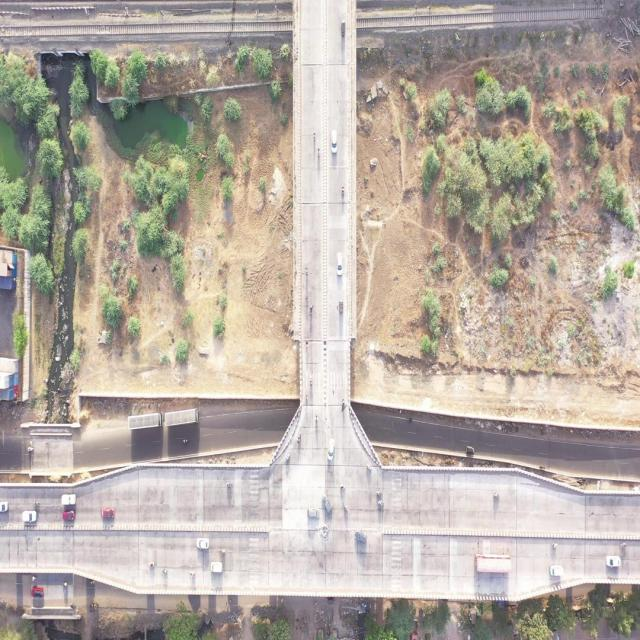3W: (466, 443, 476, 457), (89, 602, 99, 614), (338, 298, 344, 316), (326, 597, 335, 606), (341, 19, 345, 39)
Bus: (474, 551, 513, 576), (127, 412, 163, 432), (165, 408, 200, 428)
Cars: (317, 490, 336, 518), (324, 436, 338, 465), (352, 528, 368, 545), (604, 554, 621, 570), (20, 510, 39, 523), (549, 563, 564, 579), (61, 493, 78, 506), (210, 560, 224, 575), (100, 508, 116, 521), (331, 127, 338, 155), (306, 506, 320, 520), (31, 586, 45, 600), (196, 537, 211, 550), (61, 509, 76, 522), (336, 252, 343, 277)
M2W: (296, 432, 303, 446), (342, 501, 349, 514), (308, 373, 314, 388), (305, 335, 310, 352), (188, 570, 197, 579), (550, 541, 559, 550), (286, 451, 292, 464), (618, 542, 629, 549), (493, 491, 501, 500), (160, 567, 170, 574), (339, 482, 346, 492), (314, 412, 319, 425), (88, 579, 96, 587), (226, 480, 234, 488), (309, 303, 313, 319), (305, 263, 309, 279), (27, 446, 36, 453), (62, 581, 69, 590), (377, 499, 386, 506), (342, 396, 346, 411), (366, 462, 372, 472), (317, 146, 321, 161), (313, 129, 317, 144), (183, 437, 190, 445), (219, 548, 227, 555), (375, 489, 383, 496), (406, 416, 414, 423), (538, 464, 546, 471), (341, 185, 345, 199), (148, 561, 156, 567), (305, 390, 308, 406), (32, 501, 41, 506), (306, 291, 309, 305), (30, 576, 38, 581), (70, 603, 77, 608)
